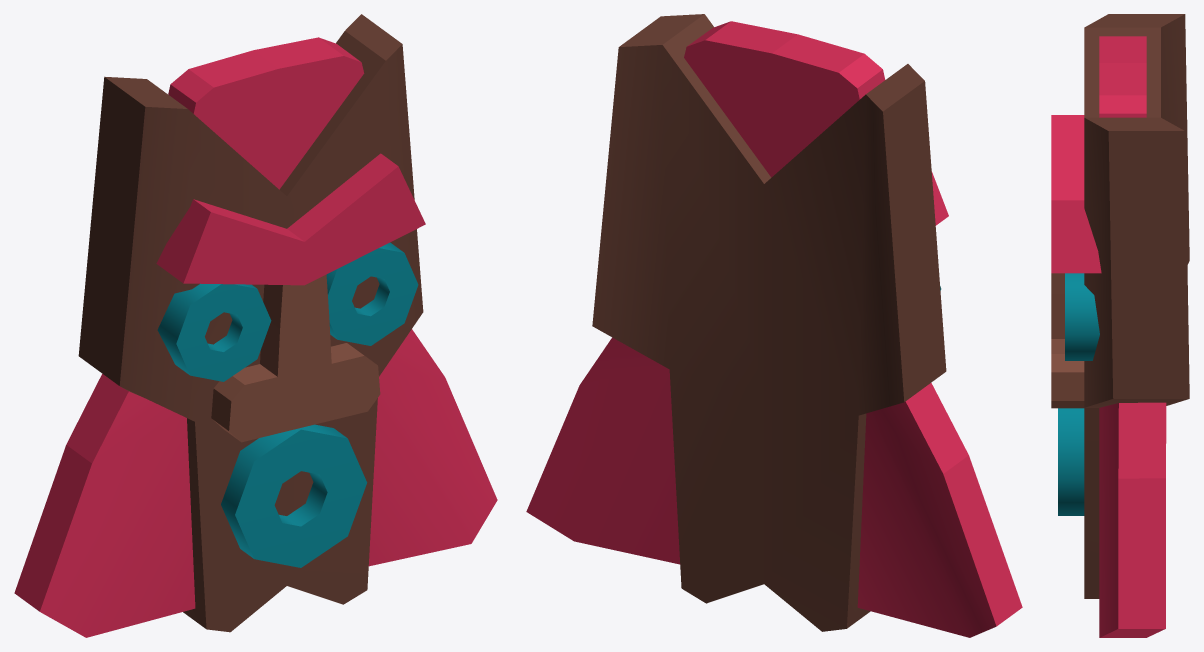
File: Head_52.fbx
3 views of the same model, side by side, from view 1: azimuth 30°, elevation 25°; view 2: azimuth 150°, elevation 25°; view 3: azimuth 270°, elevation 25° (orthographic). The views are drawn at different scales.
Visible parts, largest first — view 1: Head_52; view 2: Head_52; view 3: Head_52.
Part boxes in pixels (x1=…): Head_52: x1=14, y1=14, x2=497, y2=637; Head_52: x1=526, y1=14, x2=1022, y2=637; Head_52: x1=1051, y1=14, x2=1189, y2=637.
Size of the model in its own units: 44.36 by 50.35 by 12.45.
